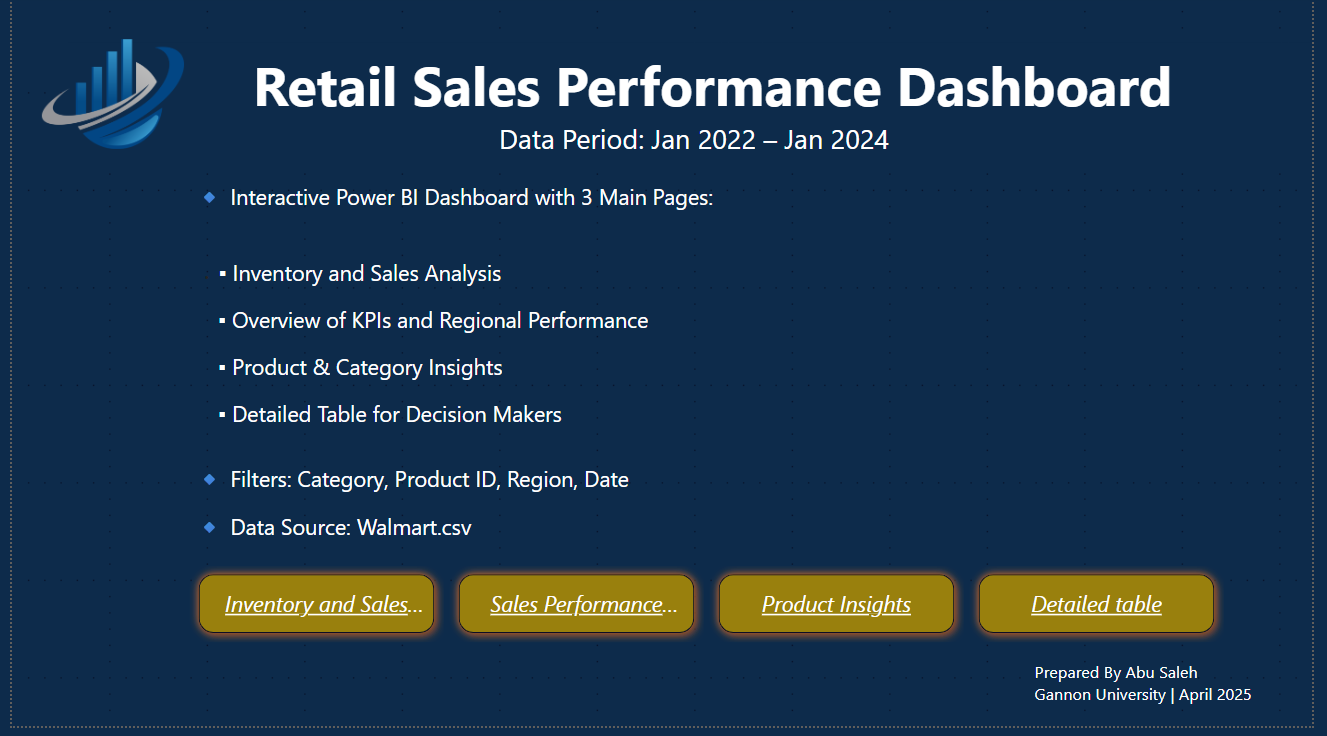

Layout of this report page (visuals, bound fields, positions):
{"tool":"powerbi","page":{"name":"Retail Sales Performance Dashboard","canvas":[1280,720],"ordinal":0},"visuals":[{"type":"textbox","box":[54.8,46.2,1224.9,121.2],"z":0},{"type":"textbox","box":[174.6,178.9,608.8,382.3],"z":1000},{"type":"pageNavigator","box":[174.6,561.2,1018.6,76.5],"z":2000},{"type":"textbox","box":[1001.3,649.2,240.9,70.7],"z":3000},{"type":"image","box":[24.5,28.9,150,138.5],"z":4000}]}

Visuals, with their boxes in screenshot pixels (x1, y1, x2, y2), scaled from the page's 1280x720 canvas onto the 1327x736 screenshot:
textbox: {"left": 57, "top": 47, "right": 1326, "bottom": 171}
textbox: {"left": 181, "top": 183, "right": 812, "bottom": 574}
pageNavigator: {"left": 181, "top": 574, "right": 1237, "bottom": 652}
textbox: {"left": 1038, "top": 664, "right": 1288, "bottom": 735}
image: {"left": 25, "top": 30, "right": 181, "bottom": 171}
